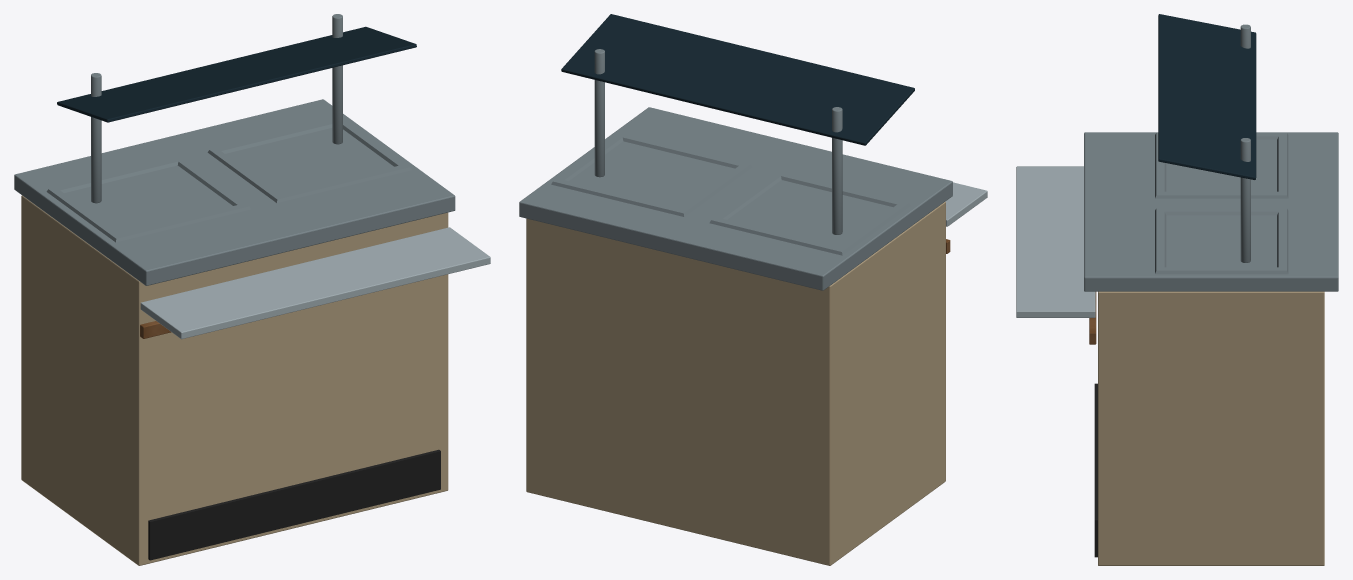
Rendered from OAA_Kantin_Counter_Saji_1m.fbx.
3 views of the same model, side by side, from view 1: azimuth 30°, elevation 25°; view 2: azimuth 150°, elevation 25°; view 3: azimuth 270°, elevation 25° (orthographic). The views are drawn at different scales.
Parts seen in each view (by area): view 1: Body; view 2: Body; view 3: Body.
Boxes of the visible parts, box(x1,y1,x2,y2) form: Body: box(14, 14, 490, 565); Body: box(519, 14, 987, 565); Body: box(1016, 14, 1338, 565).
Bounding box in the file's own units: 1 × 1.32 × 0.937.
